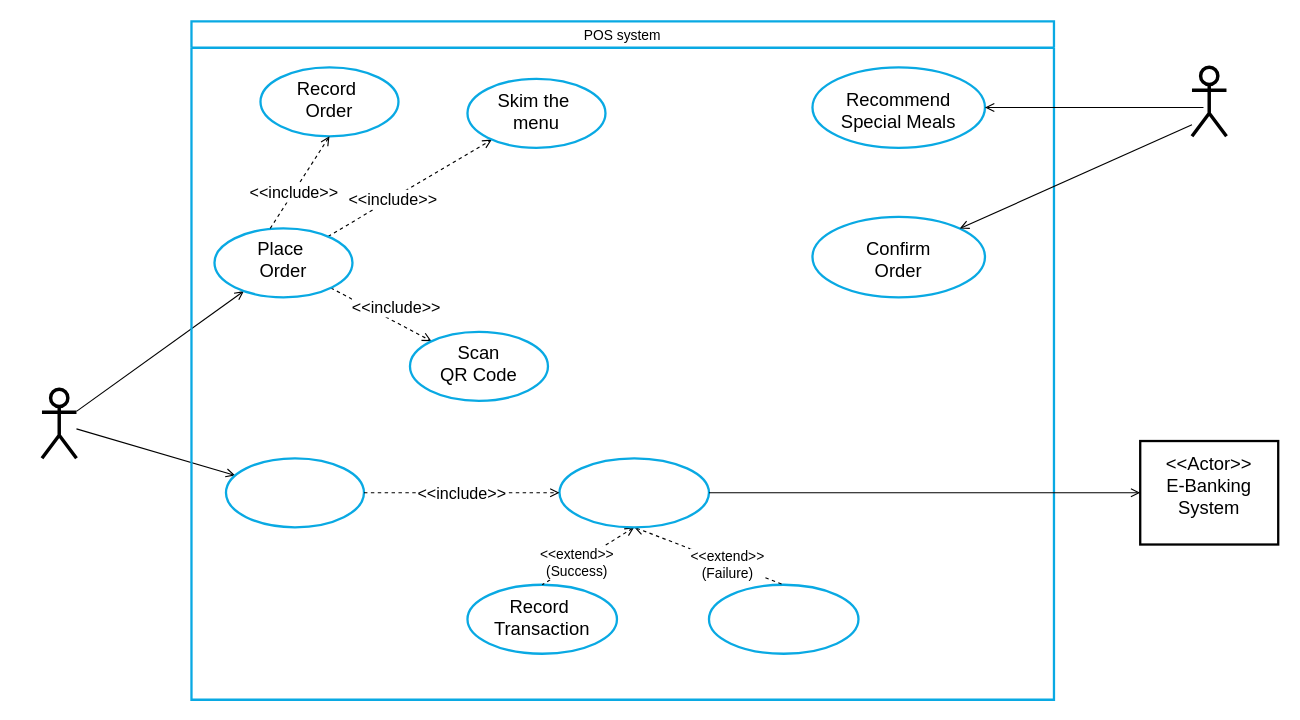
Some shapes in this 1300 by 720 pixel diagram are drawn without their labels. The shapes that lost their labels are listed below. From the top down, each one's box as (x1, y1, x2, y2) in pixels, then its label:
(1190, 65, 1228, 137): Clerk
(40, 387, 78, 459): Customer
(224, 457, 365, 528): Pay for the order
(558, 457, 710, 528): Validate the transaction
(707, 583, 859, 654): Alert Users
